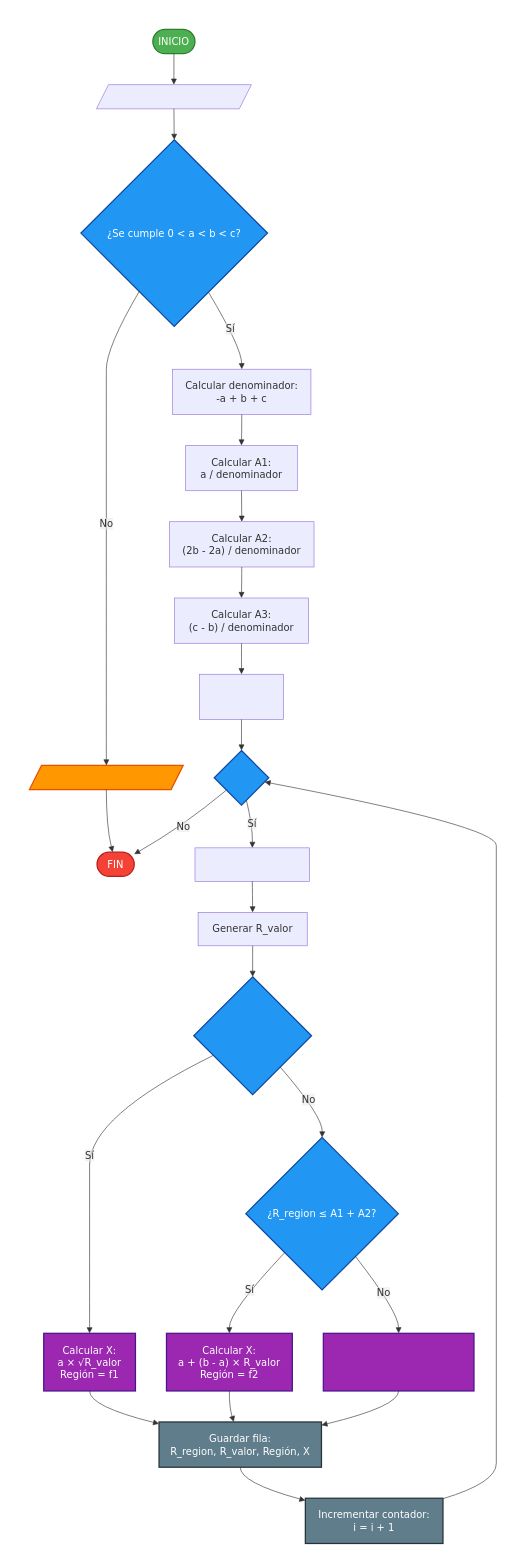
Image size: 507x1554. Some labels were removed from this diagram. The centre of each missing label's shape, as x and y in pixels:
Calcular X: c - (c - b) × √(1 - R_valor) Región = f3: point 398,1361
Generar R_region: point 252,864
Inicializar: i = 0: point 241,697
Leer parámetros: a, b, c, N: point 173,96
Mostrar error de validación: point 106,777
¿i < N?: point 241,777
¿R_region ≤ A1?: point 252,1035
